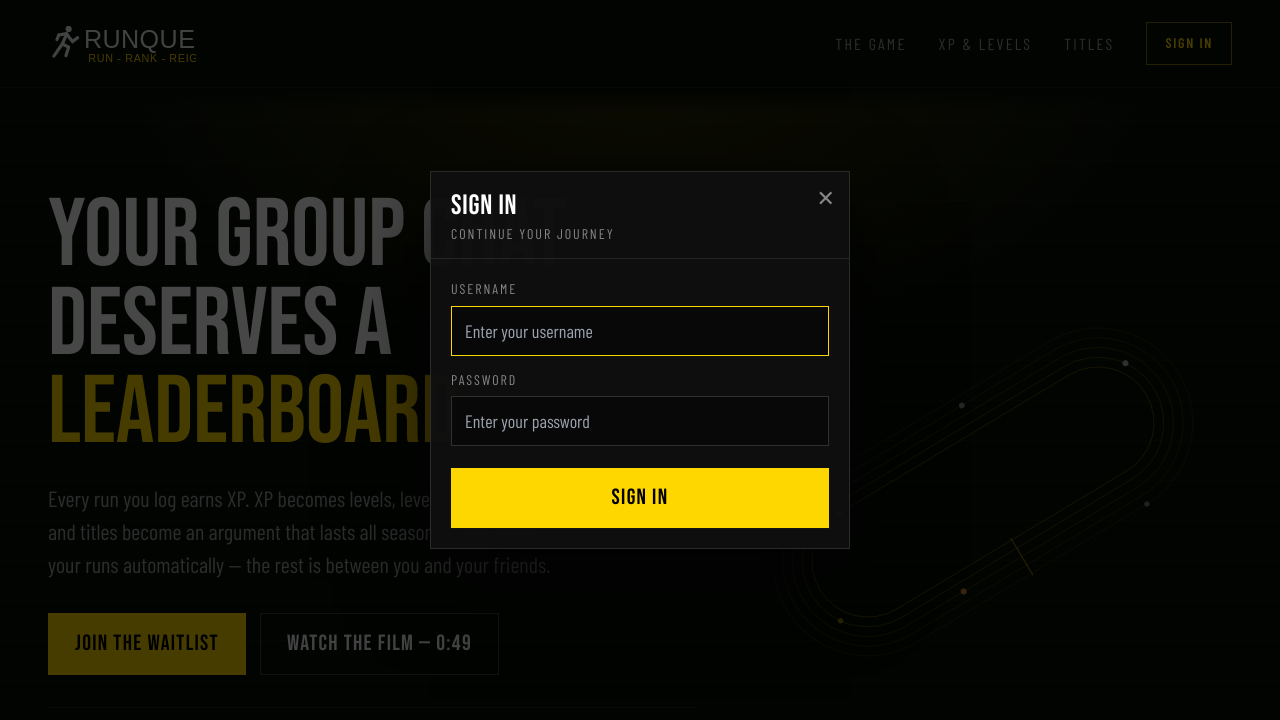
Scenario: inloggning (App → AuthProvider → LoginDialog över Landing) › under pågående inloggning står formuläret kvar: fälten readOnly (inte disabled), knappen aria-disabled, fokus tappas inte
Type "anna" into the field labelled "Username" at (640, 331), box [451, 306, 829, 356]
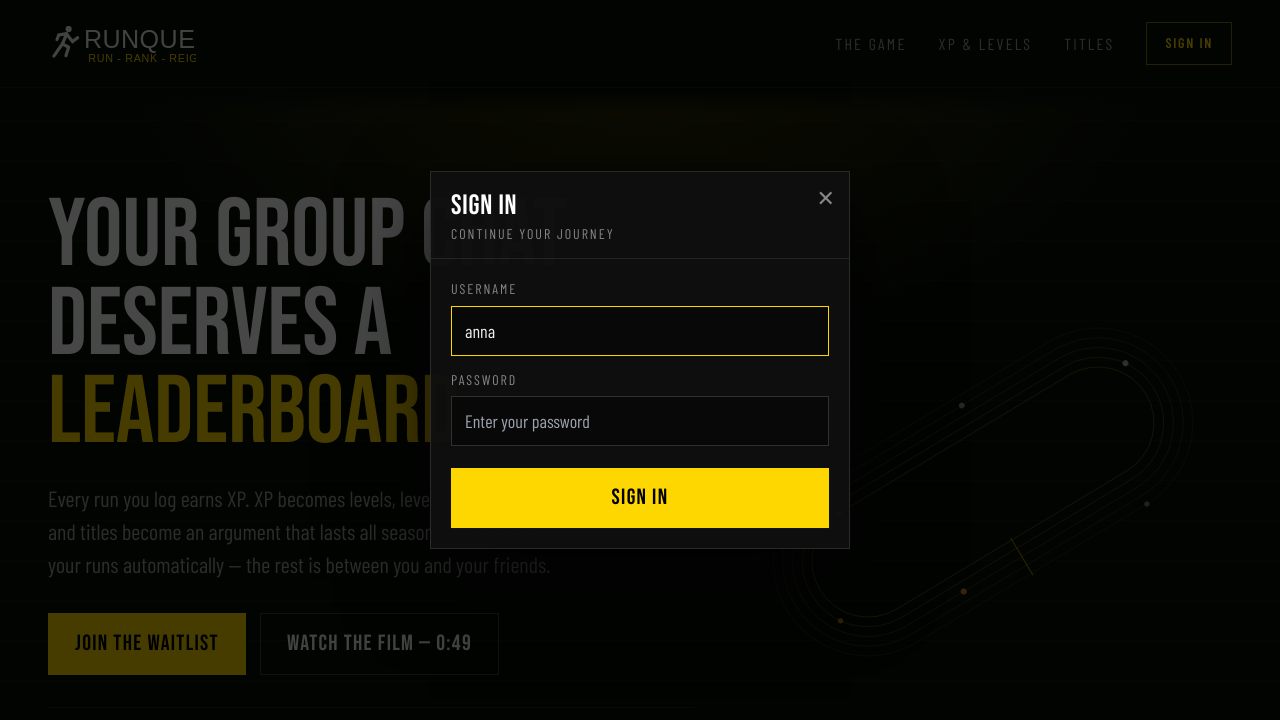
Type "hemligt" into the password field labelled "Password" at (640, 421), box [451, 396, 829, 446]
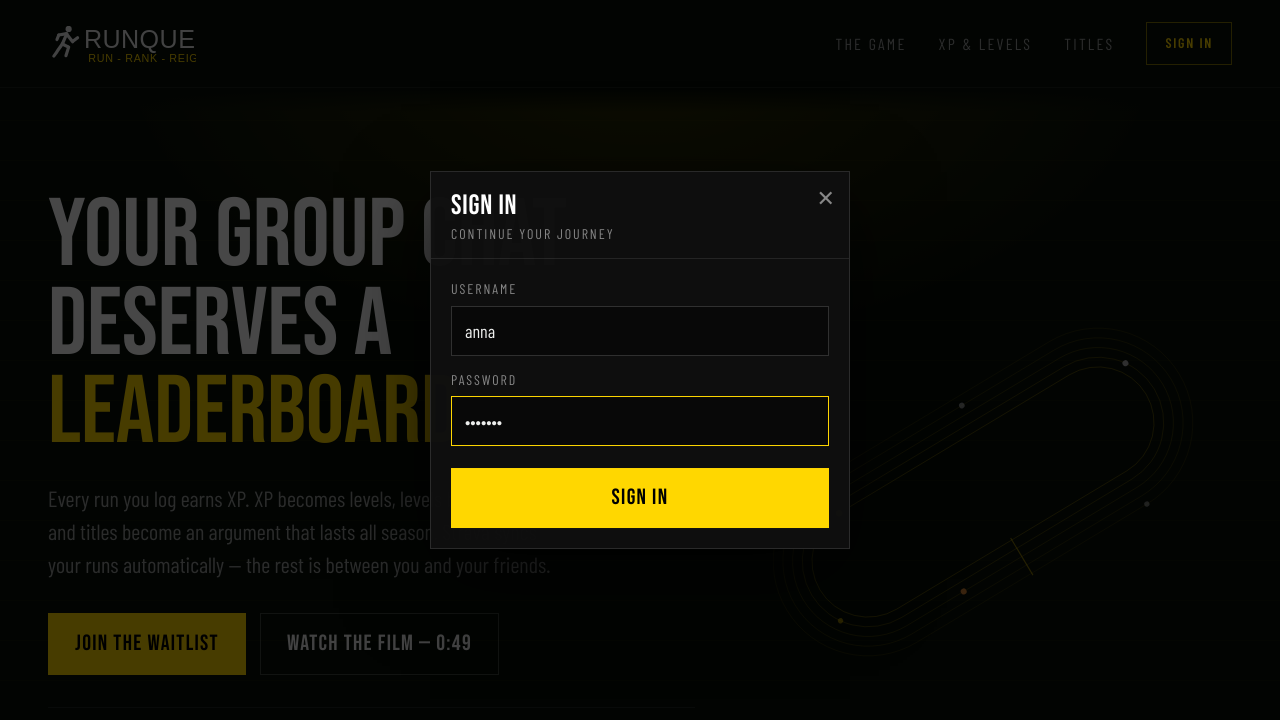
Submit the form labelled "Password", box [431, 259, 849, 548]
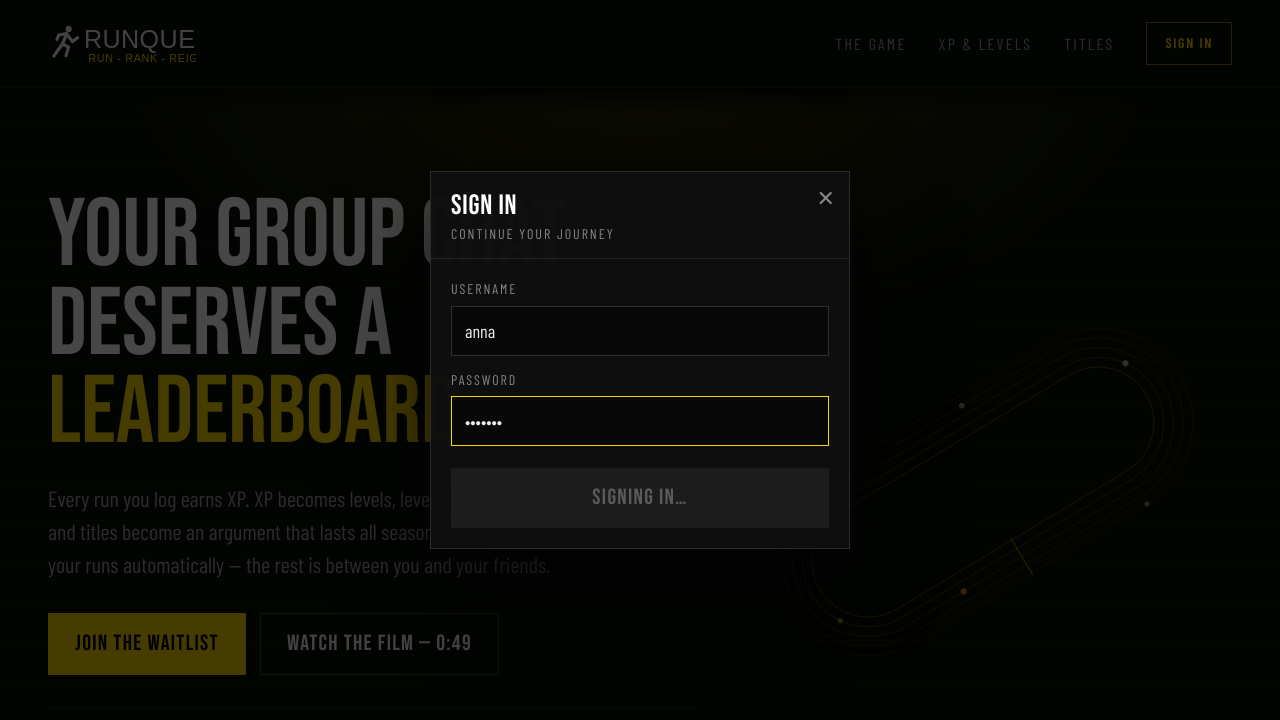
Expected: the field labelled "Username" is enabled, [451, 306, 829, 356]
Expected: the button "Signing in…" is enabled
# Ett nytt submit medan anropet pågår ignoreras.
Click the button "Signing in…" at (640, 498), box [451, 468, 829, 528]
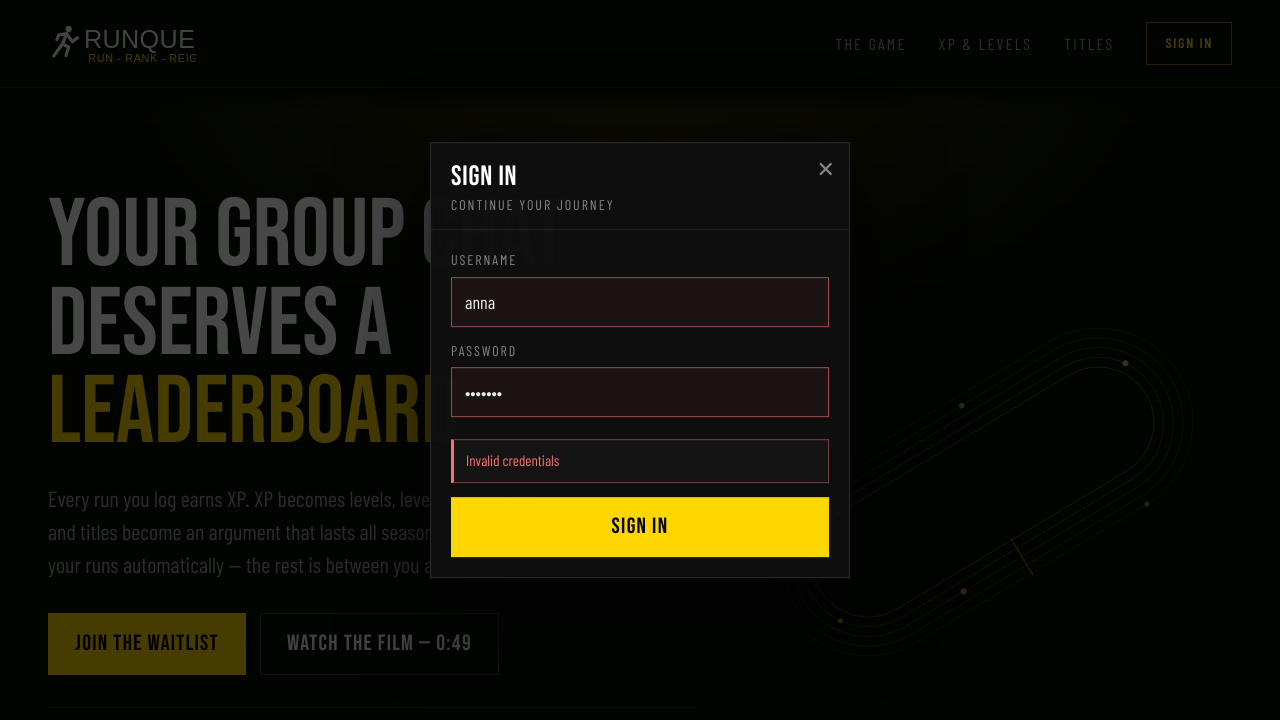
Expected: the message reads "Invalid credentials", [466, 451, 559, 469]
